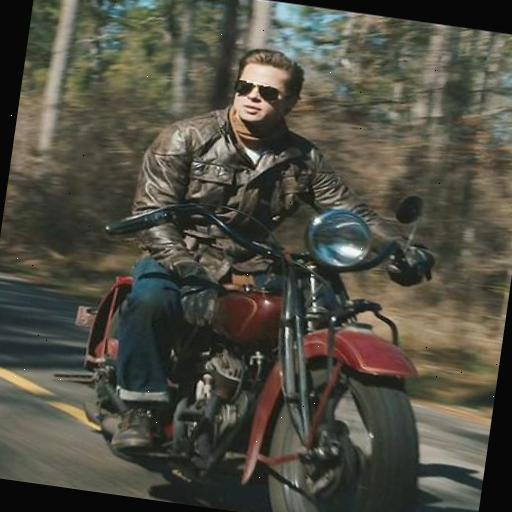no helmet: (83, 21, 498, 512)
